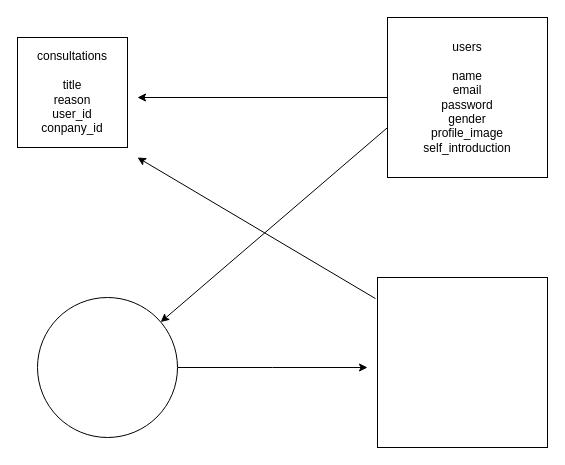
Some shapes in this 565 by 465 pixel diagram are drawn without their labels. Each missing label, with the centre of its shape:
"companys name introduce profile_image" goes at point 462,362.
"messages text user_id conpany_id" goes at point 107,367.
